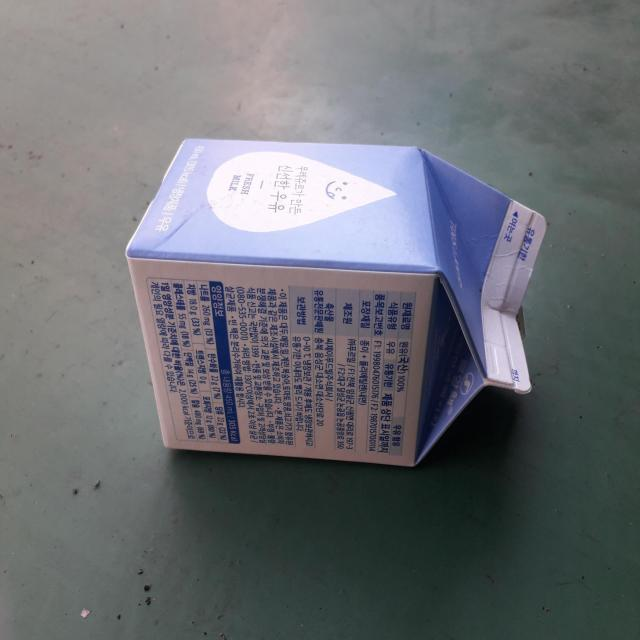paperpack: (126, 139, 547, 466)
